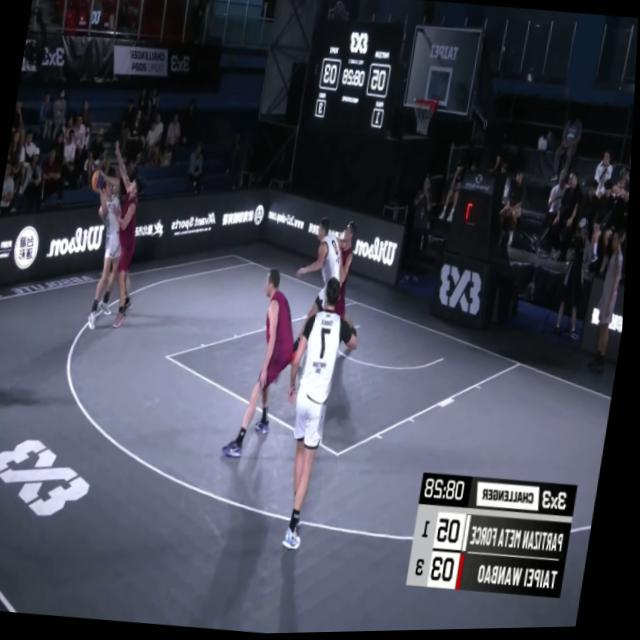ball: (90, 169, 106, 195)
hoop: (407, 95, 439, 147)
player: (269, 272, 369, 558), (225, 267, 310, 468), (90, 135, 157, 332), (76, 147, 141, 330), (287, 221, 362, 366), (329, 224, 362, 317)
